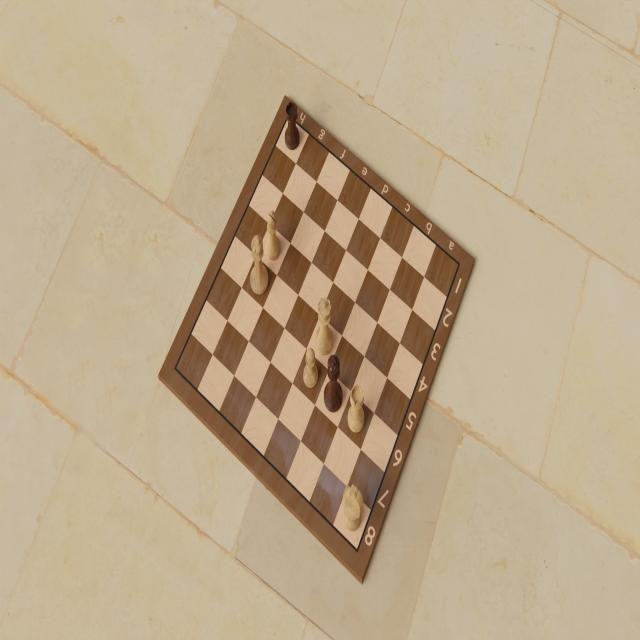black-king: (248, 232, 269, 296), (324, 352, 344, 414)
black-rook: (282, 99, 301, 152)
white-bishop: (263, 208, 283, 264)
white-knight: (341, 482, 364, 537)
white-pawn: (301, 345, 319, 390)
white-queen: (314, 295, 334, 356)
white-rook: (347, 383, 365, 433)
